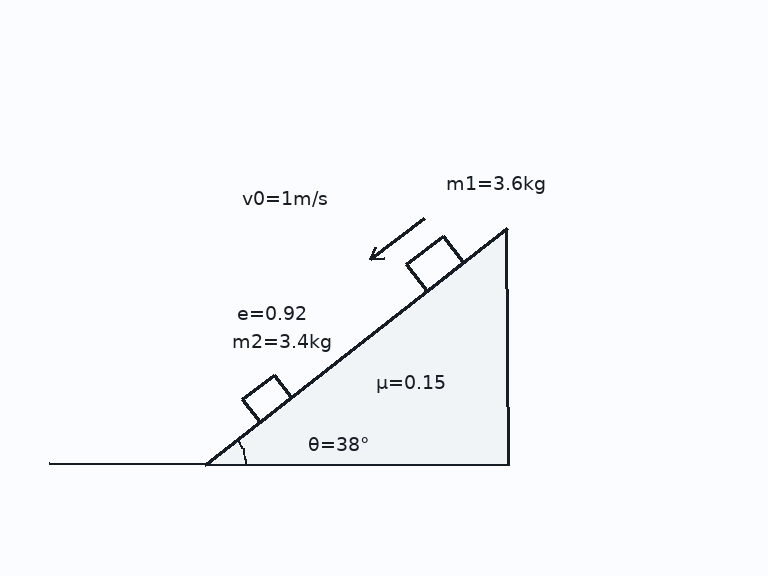block: (404, 234, 466, 293), (240, 373, 293, 424)
ramp: (204, 226, 510, 466)
